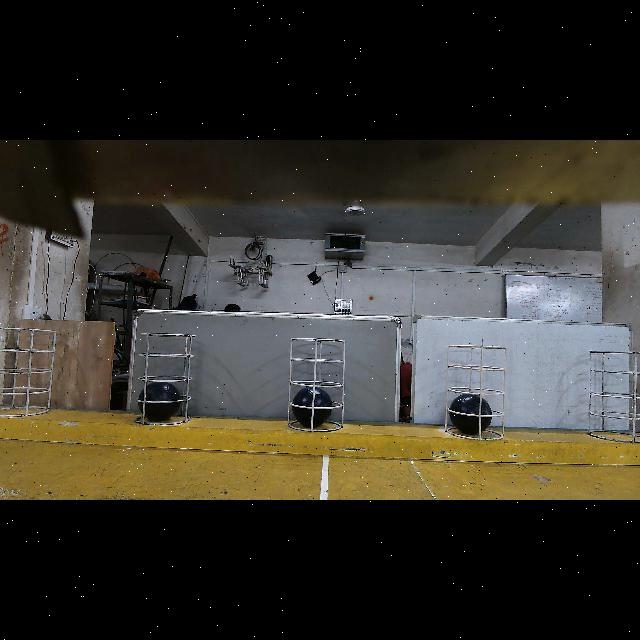P: (137, 383, 181, 421), (449, 395, 492, 433), (293, 388, 332, 426)
S: (444, 340, 506, 440), (135, 331, 193, 434), (286, 335, 344, 433), (4, 322, 56, 416), (590, 350, 640, 440)
